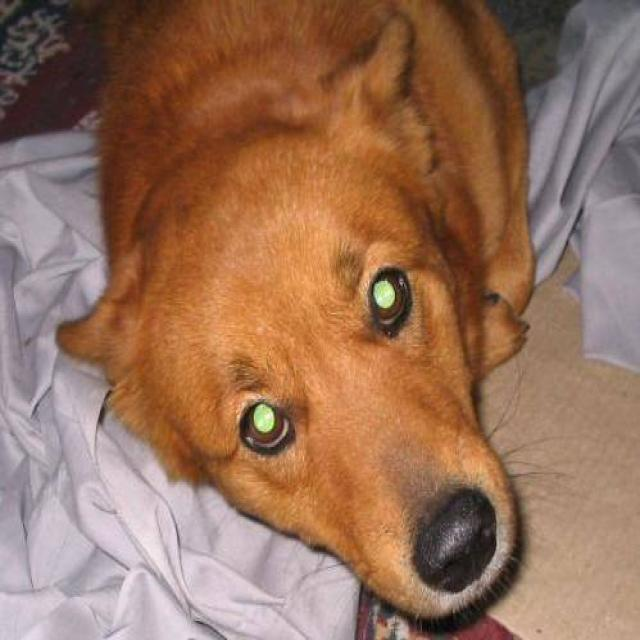dogs: (75, 0, 558, 640)
